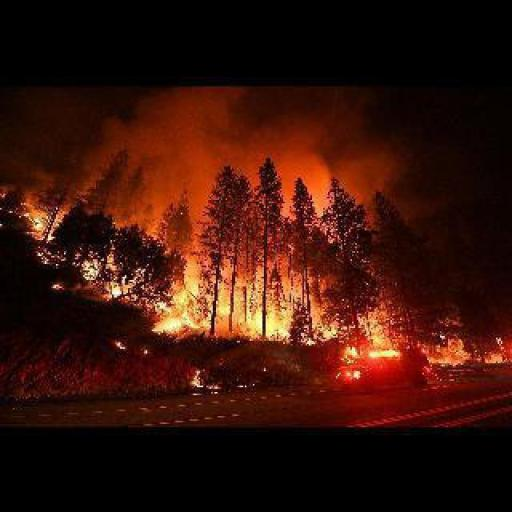smoke: (21, 205, 510, 368)
